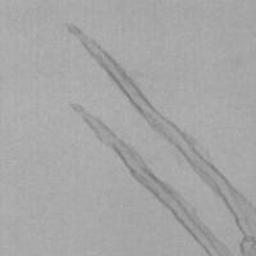Water spot: (65, 22, 256, 256), (68, 101, 236, 256)
